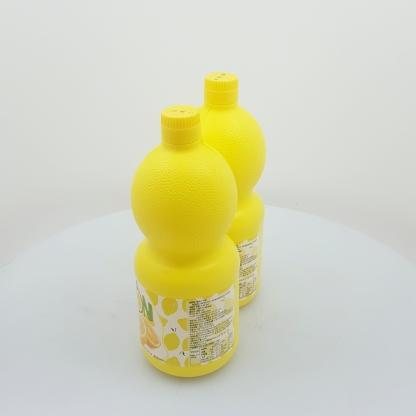-------: (131, 105, 240, 377)
